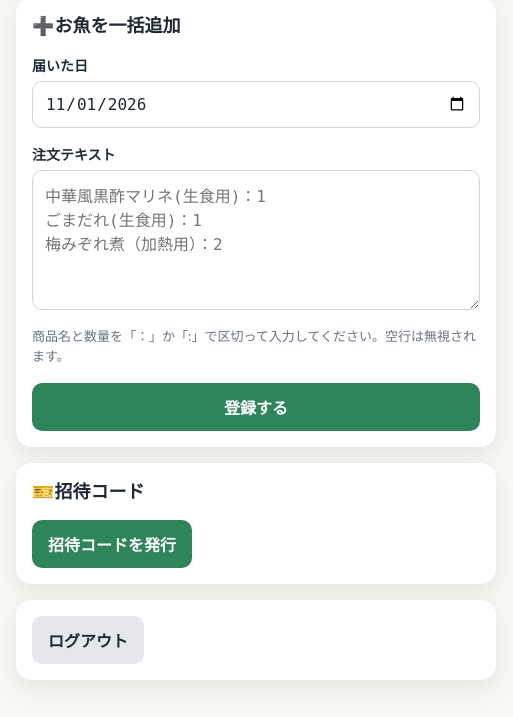
App › issues and displays an invite code
(page scrolled)
Click the button "招待コードを発行". click: x=112, y=544
box: [32,520,192,568]
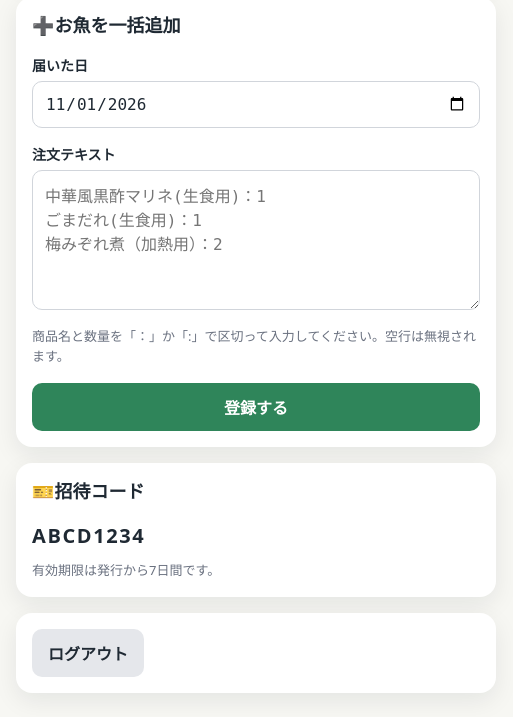
Expected: the text "ABCD1234" is shown, [32,522,145,549]
